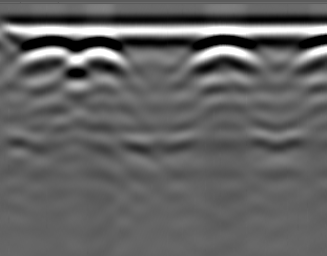steel: (188, 37, 261, 74), (77, 37, 131, 72), (23, 34, 71, 64)
